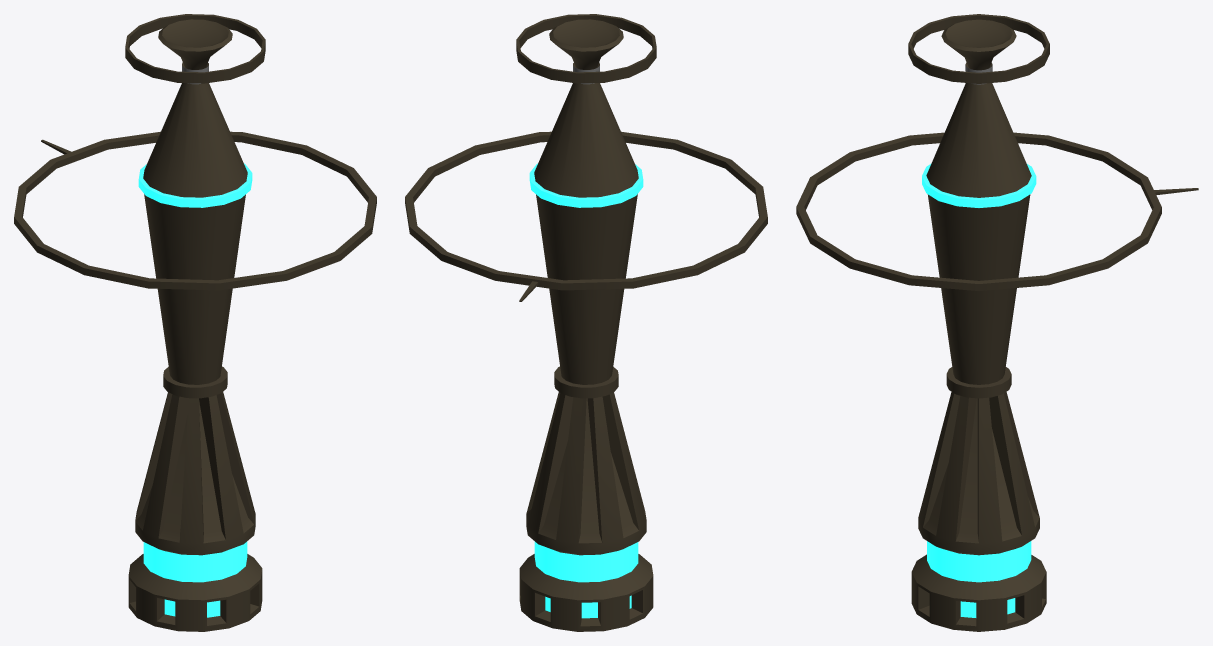
The model's file is Energy Tower .fbx.
3 views of the same model, side by side, from view 1: azimuth 30°, elevation 25°; view 2: azimuth 150°, elevation 25°; view 3: azimuth 270°, elevation 25° (orthographic).
Parts seen in each view (by area): view 1: Energy Tower; view 2: Energy Tower; view 3: Energy Tower.
Part boxes in pixels (<box>): Energy Tower: <box>14,14,376,631</box>; Energy Tower: <box>405,14,767,631</box>; Energy Tower: <box>796,14,1198,631</box>.
Size of the model in its own units: 749 by 1288 by 825.
